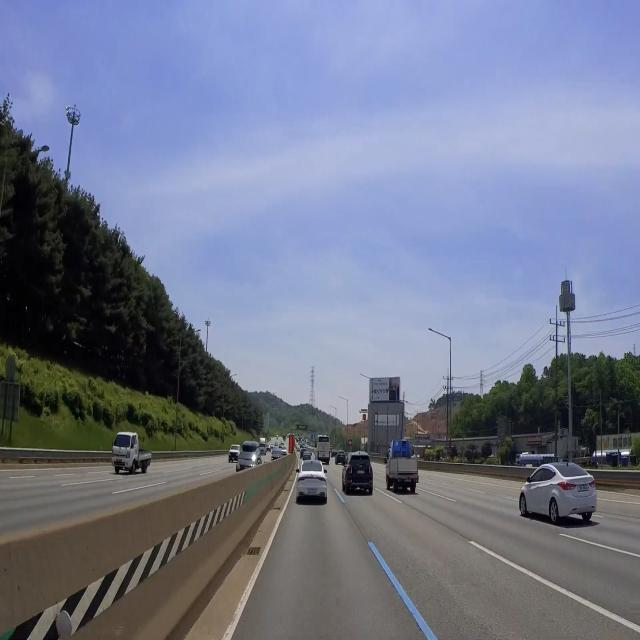car: (303, 483, 321, 498), (574, 482, 592, 497), (404, 475, 416, 486), (356, 468, 367, 479), (115, 455, 125, 467)
